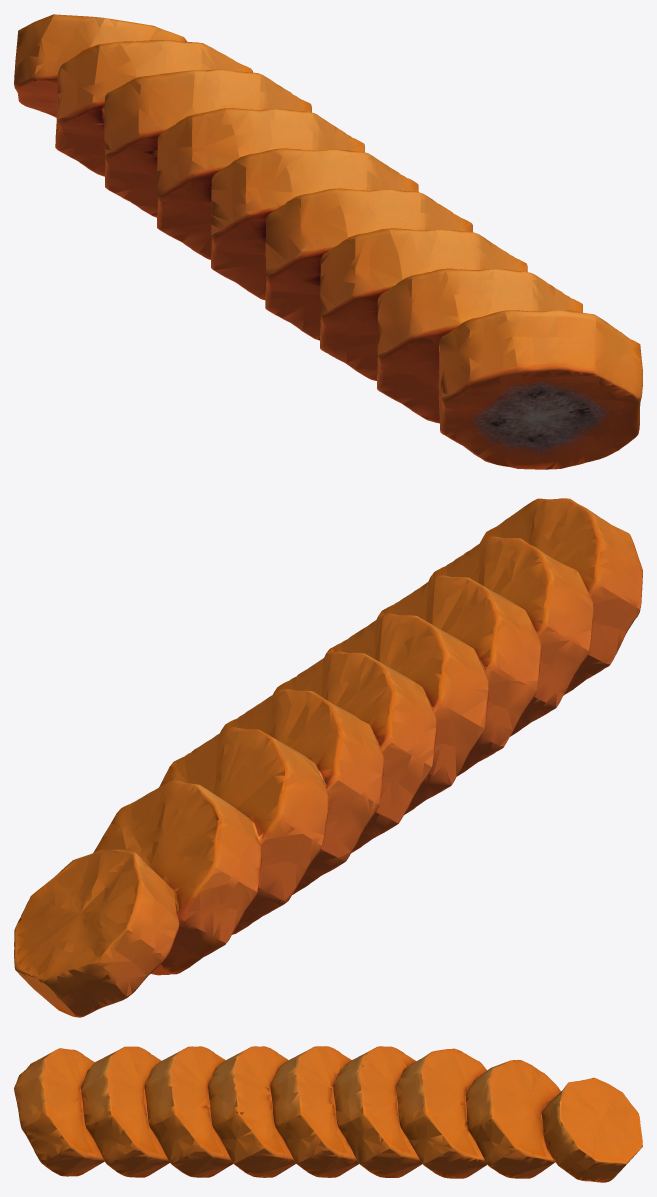
Rendered from new_carrot_4.fbx.
3 renders of one model, top to bottom at view 1: azimuth 30°, elevation 25°; view 2: azimuth 150°, elevation 25°; view 3: azimuth 270°, elevation 25°, orthographic. The views are drawn at different scales.
Visible parts, largest first — view 1: tripo_node_58c8e177; view 2: tripo_node_58c8e177; view 3: tripo_node_58c8e177.
Part boxes in pixels (x1=…): tripo_node_58c8e177: x1=14, y1=14, x2=642, y2=469; tripo_node_58c8e177: x1=14, y1=498, x2=642, y2=1017; tripo_node_58c8e177: x1=14, y1=1046, x2=642, y2=1182.
Size of the model in its own units: 21.24 by 18.91 by 97.92.
Materials: 1 (1 with a texture image).
